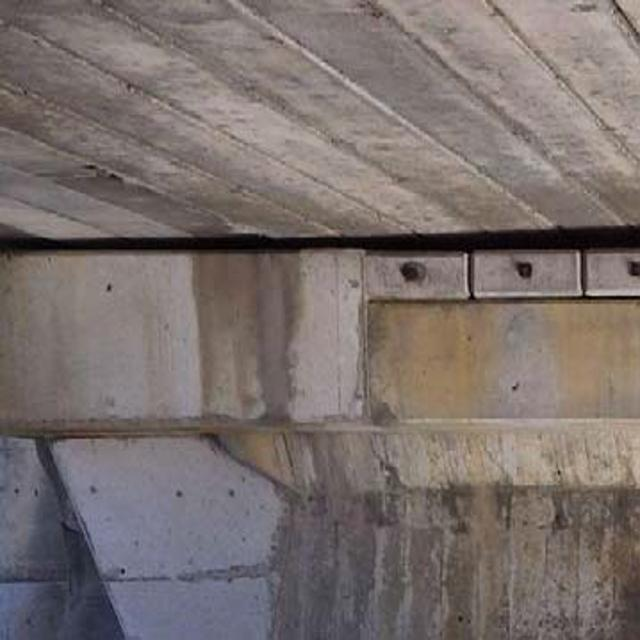leakage: (180, 216, 297, 424)
